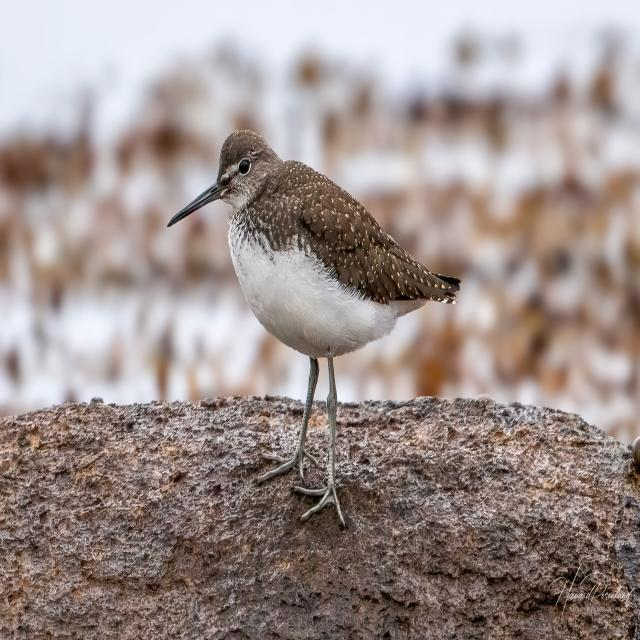Sandpiper: (166, 126, 458, 524)
